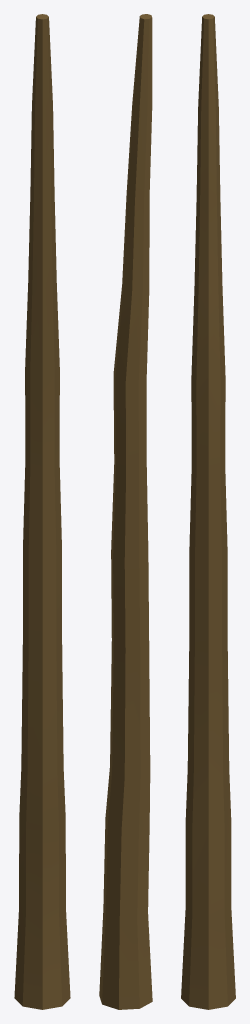
Rendered from EverGreenBase.fbx.
The picture shows the model from 3 angles, left to right: view 1: azimuth 90°, elevation 25°; view 2: azimuth 210°, elevation 25°; view 3: azimuth 270°, elevation 25°; orthographic projection.
Visible parts, largest first — view 1: EvergreenBase; view 2: EvergreenBase; view 3: EvergreenBase.
Boxes of the visible parts, left/top/right/bottom form: EvergreenBase: left=14, top=14, right=70, bottom=1009; EvergreenBase: left=99, top=14, right=152, bottom=1009; EvergreenBase: left=181, top=14, right=235, bottom=1009.
Bounding box in the file's own units: 21.85 × 412 × 21.15.
